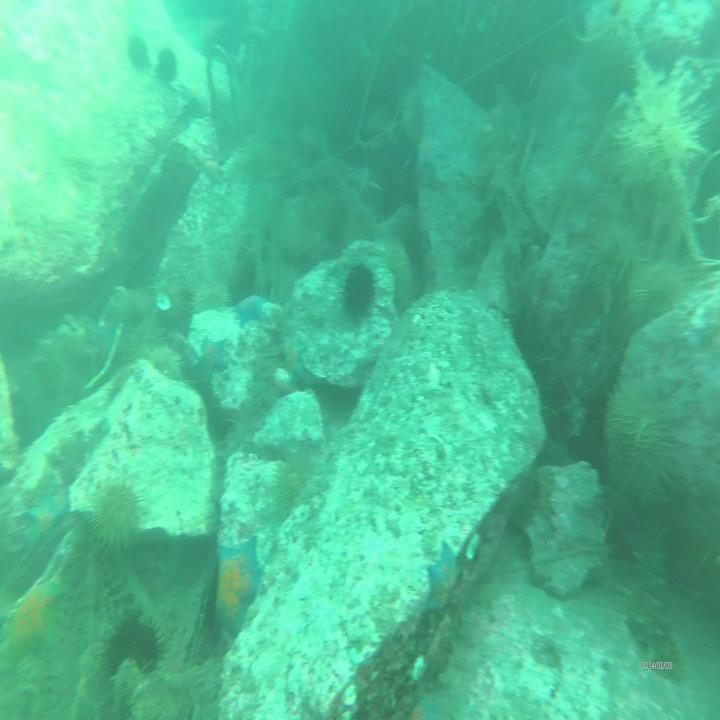echinus: (101, 601, 167, 675), (92, 479, 150, 561), (334, 255, 384, 330), (270, 444, 316, 509), (147, 339, 188, 389), (192, 276, 233, 316), (125, 27, 151, 79), (153, 44, 181, 88)
starfish: (214, 532, 262, 638), (16, 480, 66, 563), (8, 578, 64, 648), (426, 538, 462, 618)
